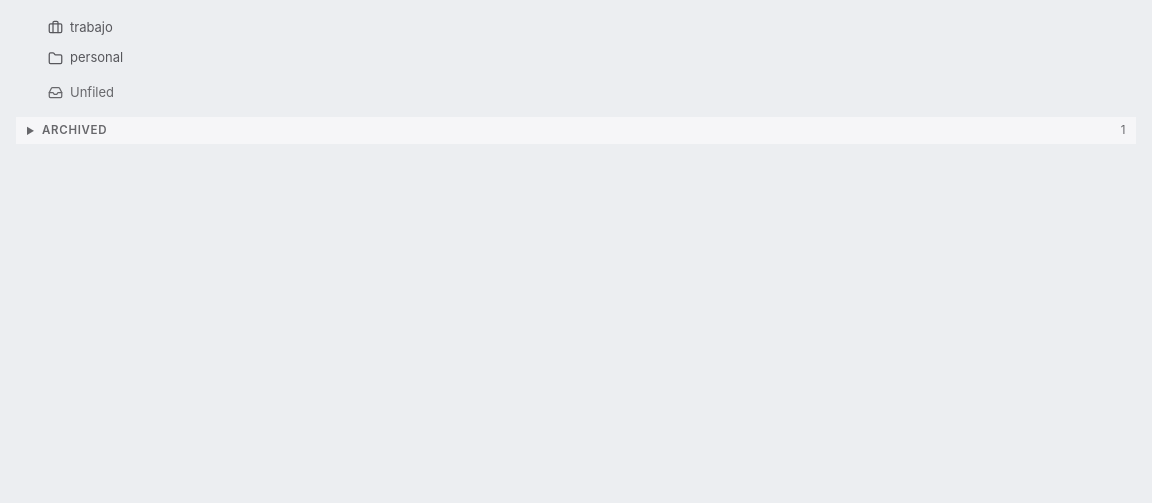
Test: the document tree › says whether a branch is open, for a reader that cannot see it
Click the button named "Open " at (55, 28), box [46,18,64,38]
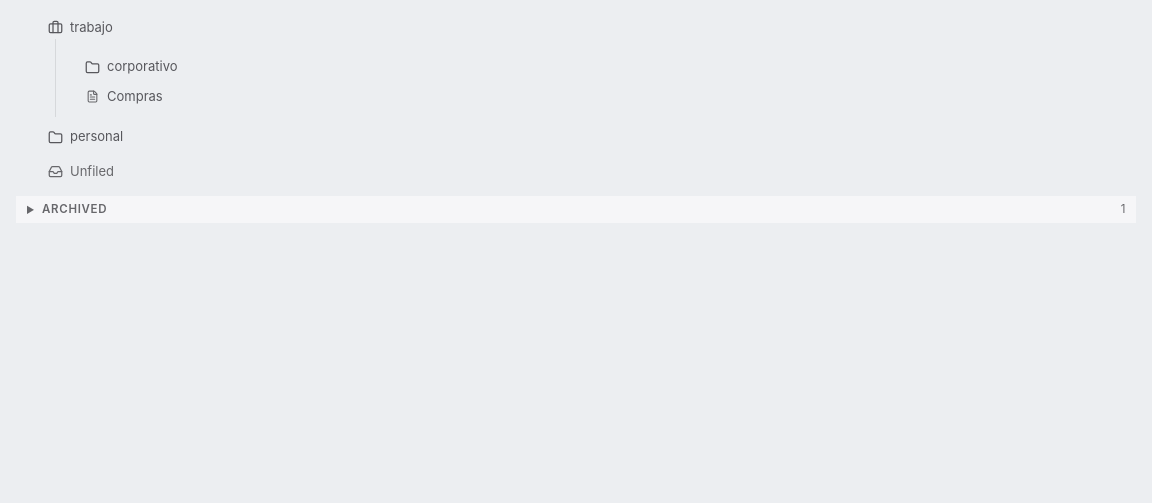
Click the button named "Open " at (55, 137), box [46,127,64,147]
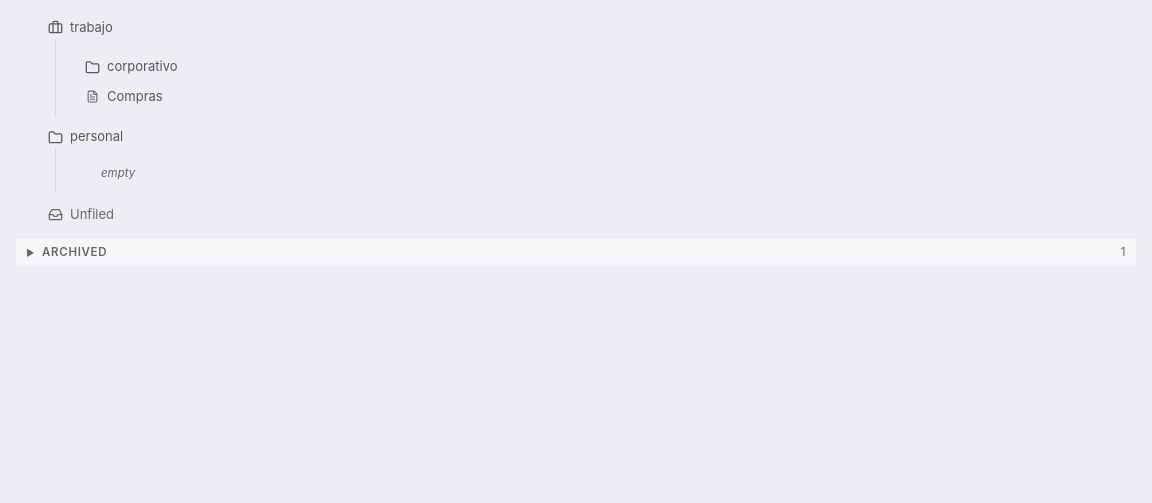
Click the button named "Open " at (55, 214), box [46,204,64,224]
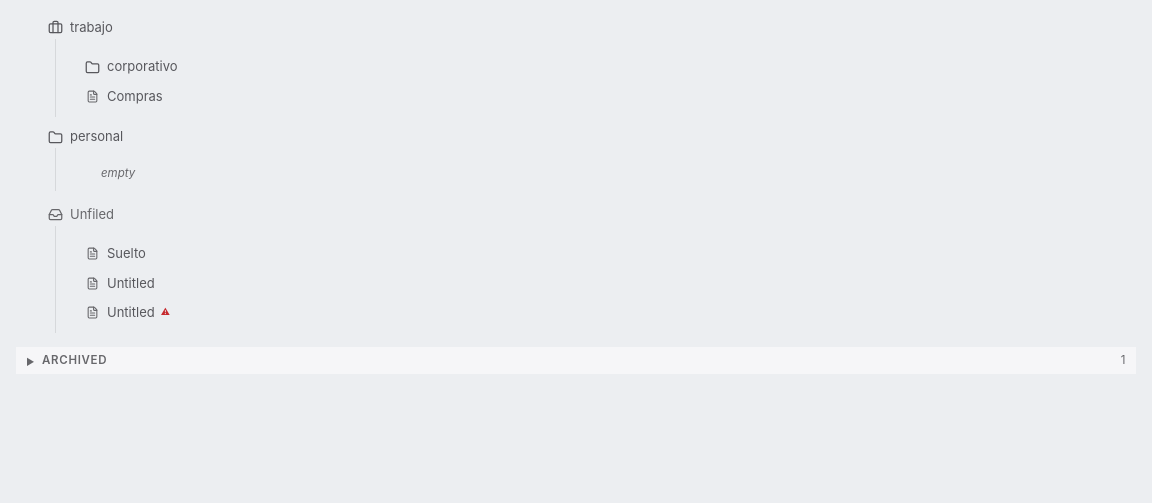
Click the button "▼ Archived 1" at (75, 360), box [16,348,1136,374]
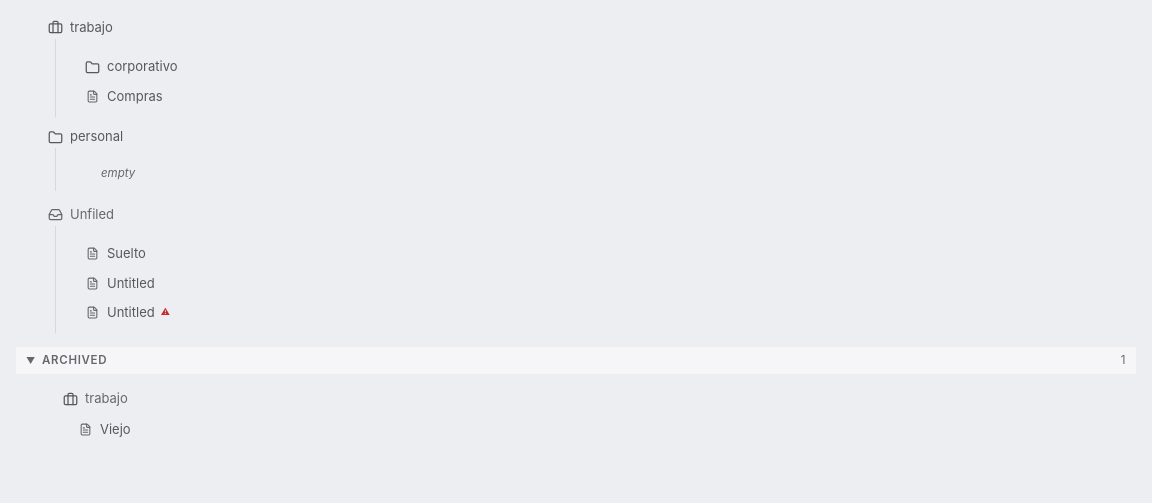
Click the button named "Open " at (92, 67), box [83,57,101,77]
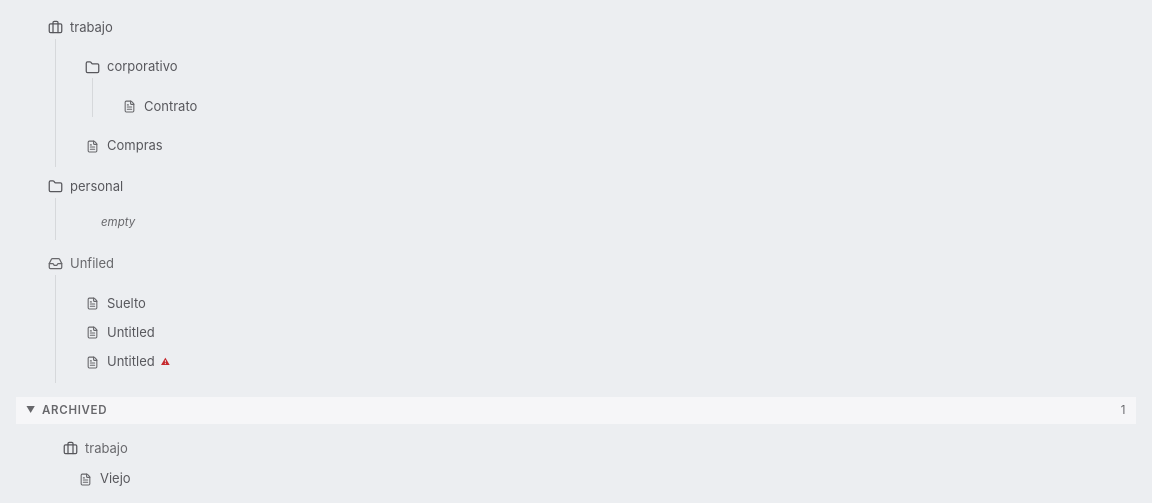
Click the button named "Close trabajo" at (55, 28), box [46,18,64,38]
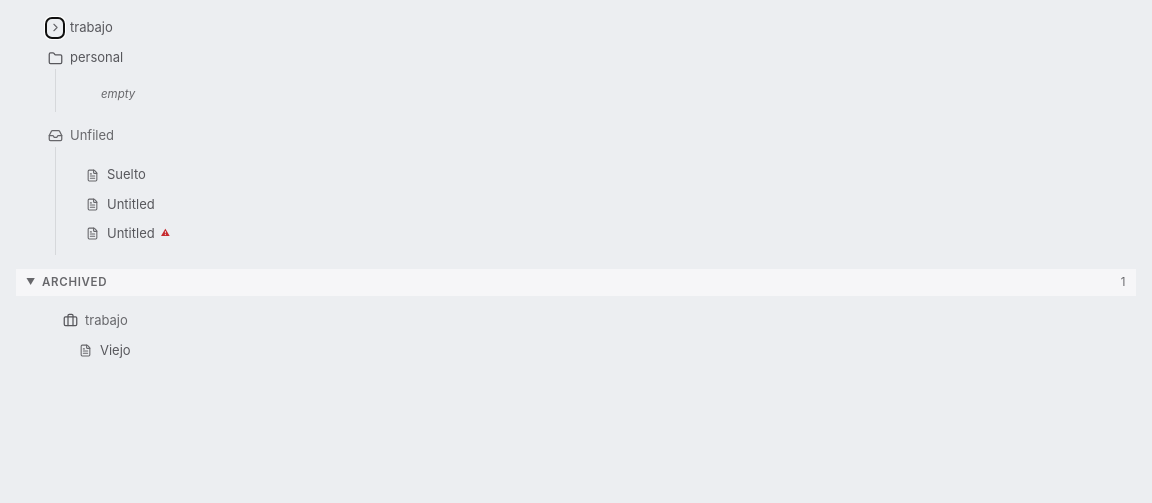
Expected: the button named "Open trabajo" is collapsed, [46,18,64,38]
